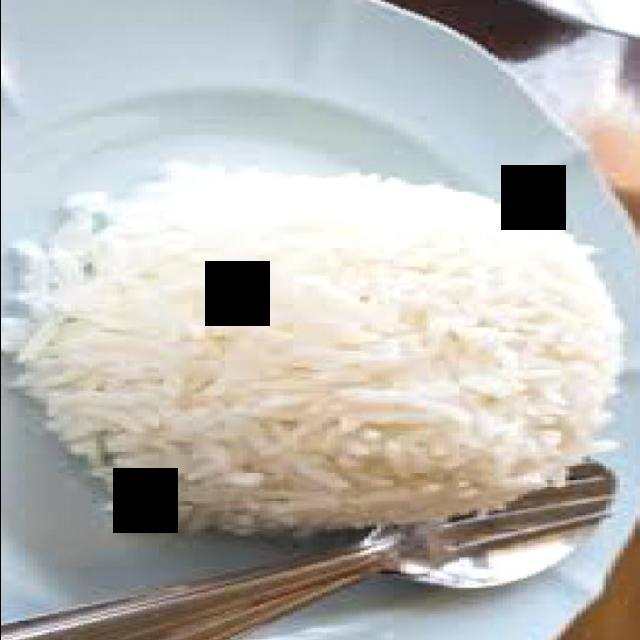rice: (0, 168, 623, 537)
